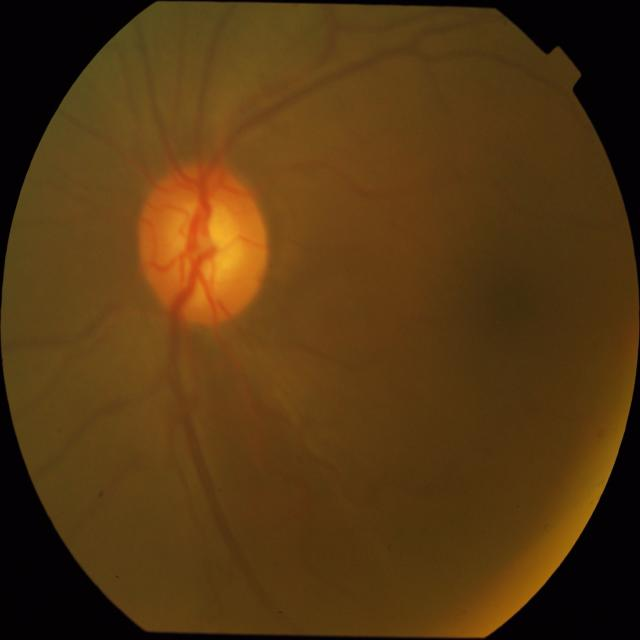OC: (170, 199, 242, 283)
OD: (135, 164, 270, 324)
